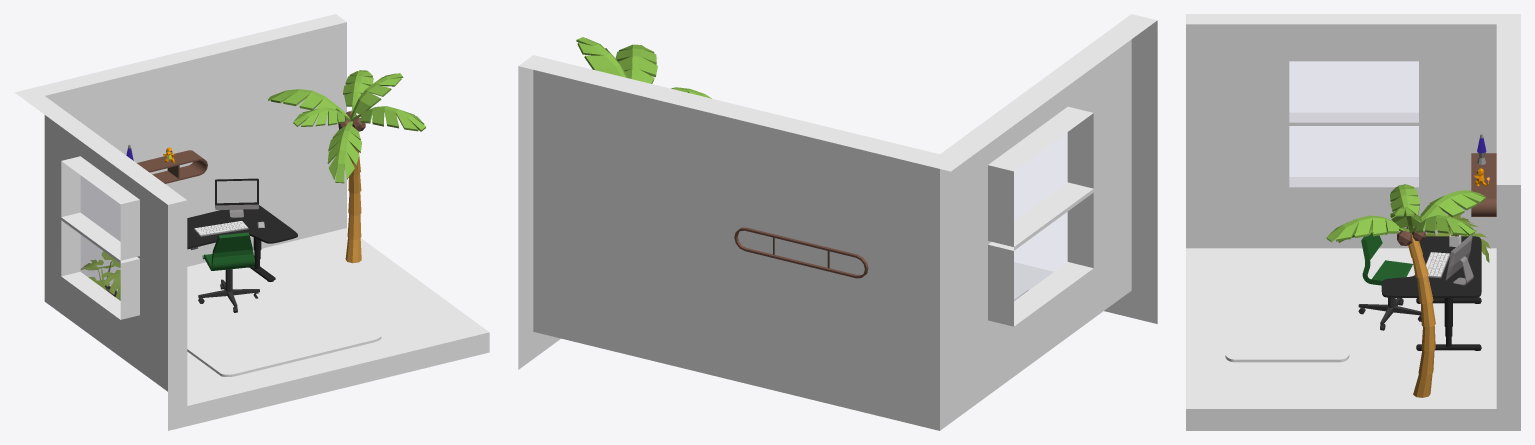
3 views of the same model, side by side, from view 1: azimuth 30°, elevation 25°; view 2: azimuth 150°, elevation 25°; view 3: azimuth 270°, elevation 25° (orthographic). The views are drawn at different scales.
Parts seen in each view (by area): view 1: Plane, WawaRug, palm_tree_01, Desk, Chair, SM_Shelf:SM_Shelf1, Screen, Houseplant_7, iMac, keyboard; view 2: Plane, palm_tree_01, SM_Shelf:SM_Shelf1; view 3: Plane, WawaRug, palm_tree_01, Desk, Chair, SM_Shelf:SM_Shelf1, iMac, keyboard, Houseplant_7.
Part boxes in pixels (x1,y1,x2,y2): Plane: (14,14,489,430); WawaRug: (187,297,381,376); palm_tree_01: (268,70,425,263); Desk: (187,205,297,281); Chair: (198,232,259,312); SM_Shelf:SM_Shelf1: (137,150,207,183); Screen: (217,180,256,203); Houseplant_7: (80,251,120,300); iMac: (215,178,259,217); keyboard: (194,221,248,236); Plane: (518,14,1157,430); palm_tree_01: (576,37,711,98); SM_Shelf:SM_Shelf1: (734,227,868,278); Plane: (1186,14,1520,430); WawaRug: (1225,274,1349,362); palm_tree_01: (1326,184,1486,397); Desk: (1381,236,1481,350); Chair: (1358,232,1421,330); SM_Shelf:SM_Shelf1: (1471,153,1496,216); iMac: (1445,234,1473,285); keyboard: (1426,252,1450,278); Houseplant_7: (1406,214,1490,262).
Size of the model in its own units: 5.92 by 3.84 by 4.74.
